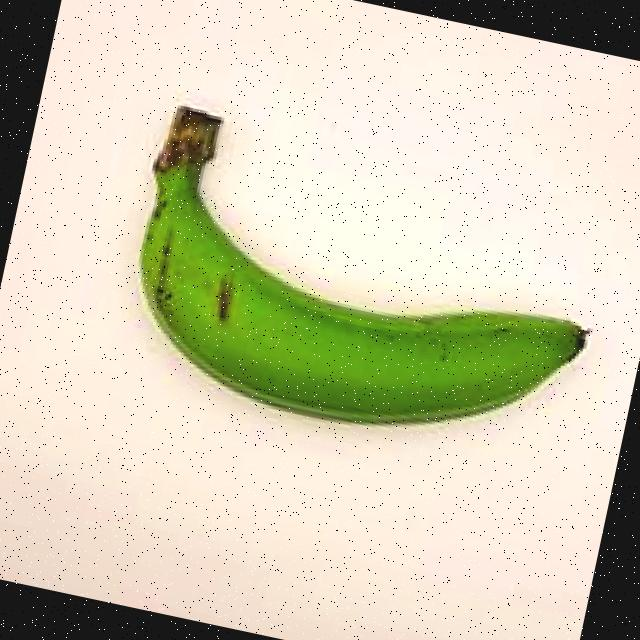Raw: (74, 60, 640, 485)
